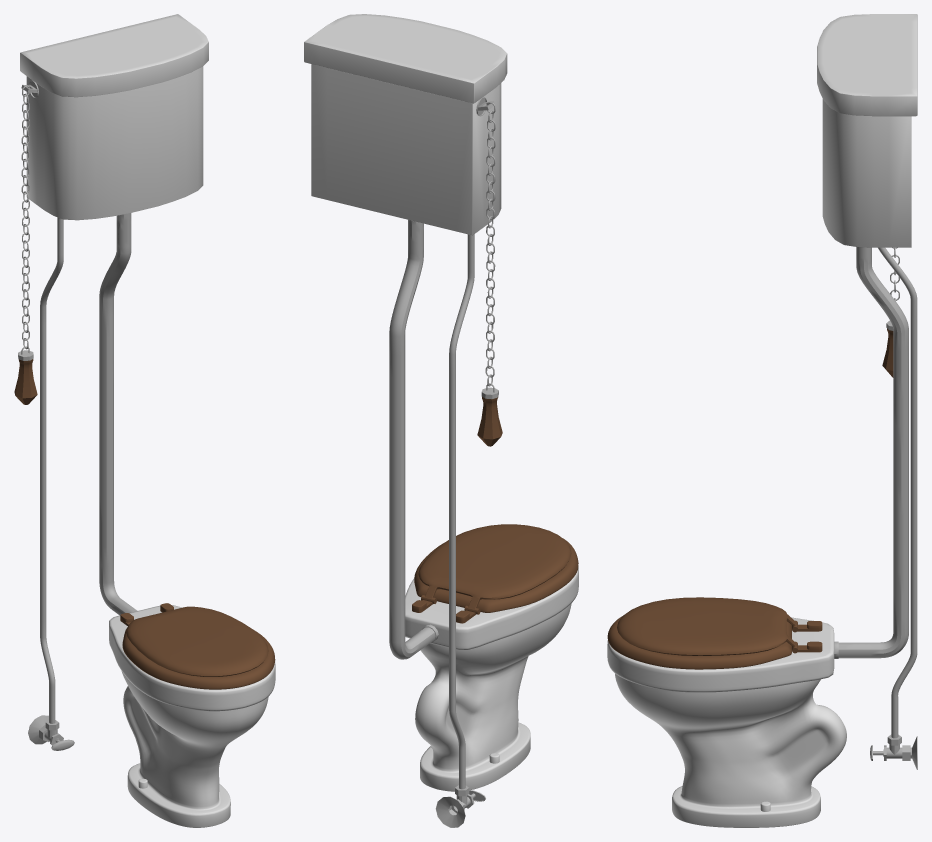
File: High Tank Toilet.fbx
3 views of the same model, side by side, from view 1: azimuth 30°, elevation 25°; view 2: azimuth 150°, elevation 25°; view 3: azimuth 270°, elevation 25° (orthographic). The views are drawn at different scales.
Parts seen in each view (by area): view 1: Water_Tank, Toilet, Water_Tank Lid, Toilet Seat Cover, Fill Line, Water Line, Remake_Toilet Lever, Toilet Seat, Water Valve; view 2: Water_Tank, Toilet, Water_Tank Lid, Toilet Seat Cover, Fill Line, Water Line, Remake_Toilet Lever, Toilet Seat, Water Valve, Toilet Seat Base; view 3: Toilet, Water_Tank, Water_Tank Lid, Toilet Seat Cover, Fill Line, Water Line, Toilet Seat, Water Valve, Remake_Toilet Lever, Toilet Seat Base.
Boxes of the visible parts, x1=… form: Water_Tank: x1=26, y1=66, x2=203, y2=220; Toilet: x1=109, y1=605, x2=275, y2=827; Water_Tank Lid: x1=20, y1=14, x2=208, y2=97; Toilet Seat Cover: x1=126, y1=606, x2=268, y2=676; Fill Line: x1=99, y1=213, x2=137, y2=615; Water Line: x1=40, y1=217, x2=63, y2=723; Remake_Toilet Lever: x1=14, y1=80, x2=38, y2=404; Toilet Seat: x1=122, y1=627, x2=275, y2=689; Water Valve: x1=28, y1=715, x2=74, y2=750; Water_Tank: x1=311, y1=64, x2=501, y2=235; Toilet: x1=405, y1=565, x2=578, y2=791; Water_Tank Lid: x1=304, y1=14, x2=507, y2=103; Toilet Seat Cover: x1=418, y1=524, x2=571, y2=609; Fill Line: x1=389, y1=220, x2=438, y2=659; Water Line: x1=449, y1=234, x2=474, y2=789; Remake_Toilet Lever: x1=476, y1=97, x2=502, y2=446; Toilet Seat: x1=414, y1=538, x2=578, y2=612; Water Valve: x1=435, y1=785, x2=485, y2=827; Toilet Seat Base: x1=412, y1=595, x2=480, y2=623; Toilet: x1=607, y1=617, x2=846, y2=827; Water_Tank: x1=822, y1=99, x2=911, y2=247; Water_Tank Lid: x1=817, y1=14, x2=917, y2=116; Toilet Seat Cover: x1=617, y1=597, x2=796, y2=655; Fill Line: x1=834, y1=247, x2=908, y2=658; Water Line: x1=878, y1=247, x2=917, y2=738; Toilet Seat: x1=607, y1=616, x2=791, y2=669; Water Valve: x1=870, y1=734, x2=917, y2=769; Remake_Toilet Lever: x1=882, y1=247, x2=899, y2=377; Toilet Seat Base: x1=792, y1=620, x2=822, y2=653.
Size of the model in its own units: 48.1 by 188 by 69.98.
